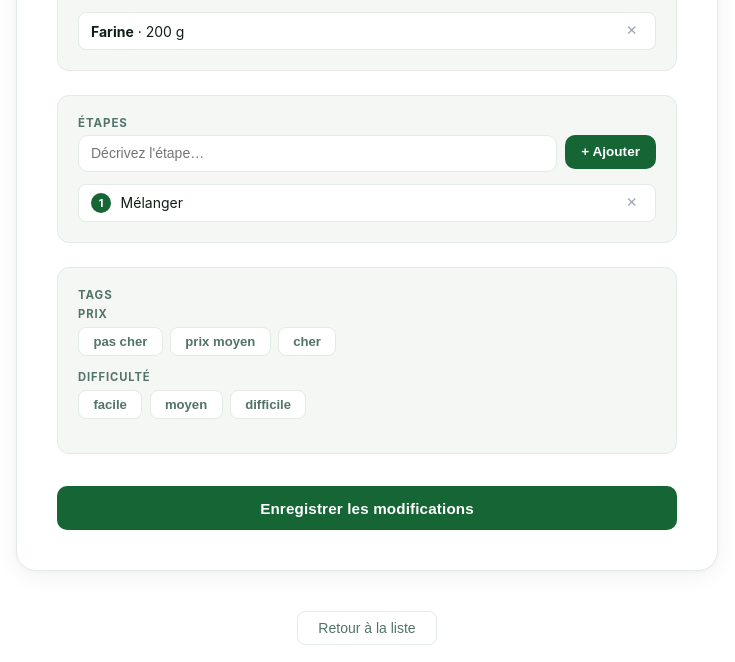
Test: RecetteForm — mode édition › soumission en mode édition affiche le toast de modification
(page scrolled)
Click the button "Enregistrer les modifications": (367, 508) left=57, top=486, right=677, bottom=530
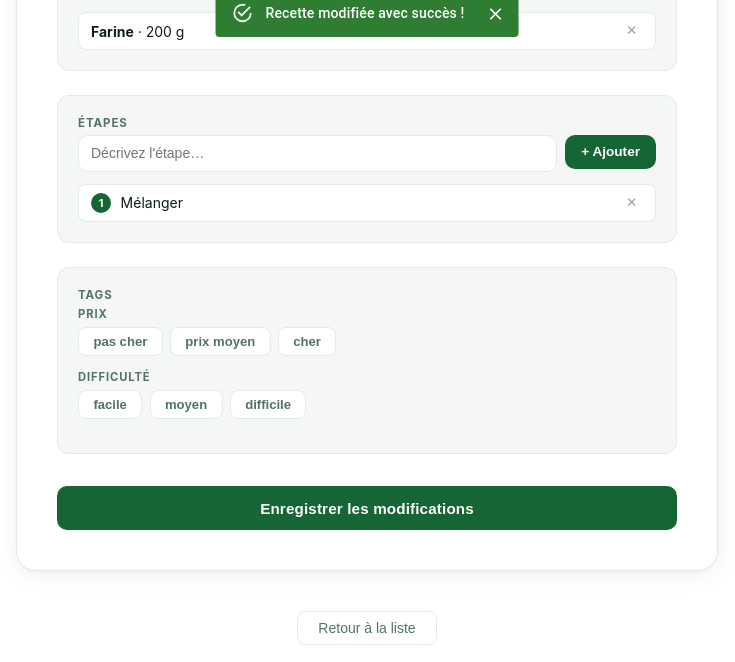
Expected: the text "Recette modifiée avec succès !" is shown, left=266, top=5, right=464, bottom=21
